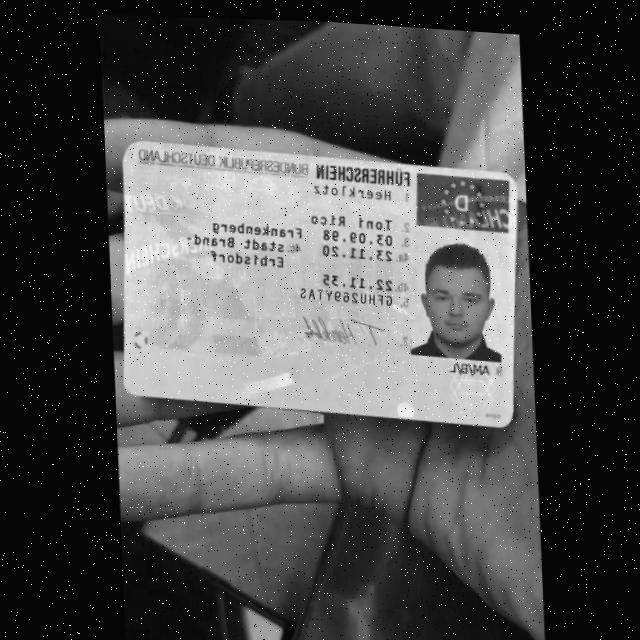card: (123, 142, 516, 426)
